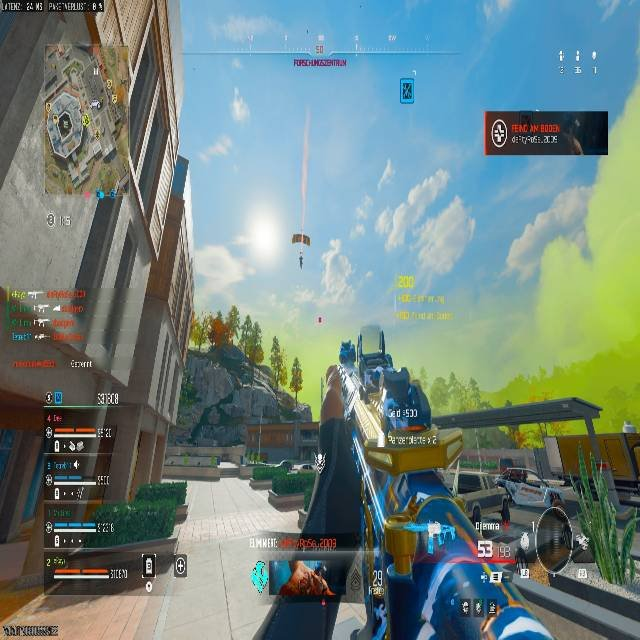player: (494, 474, 516, 527), (297, 249, 304, 269)
